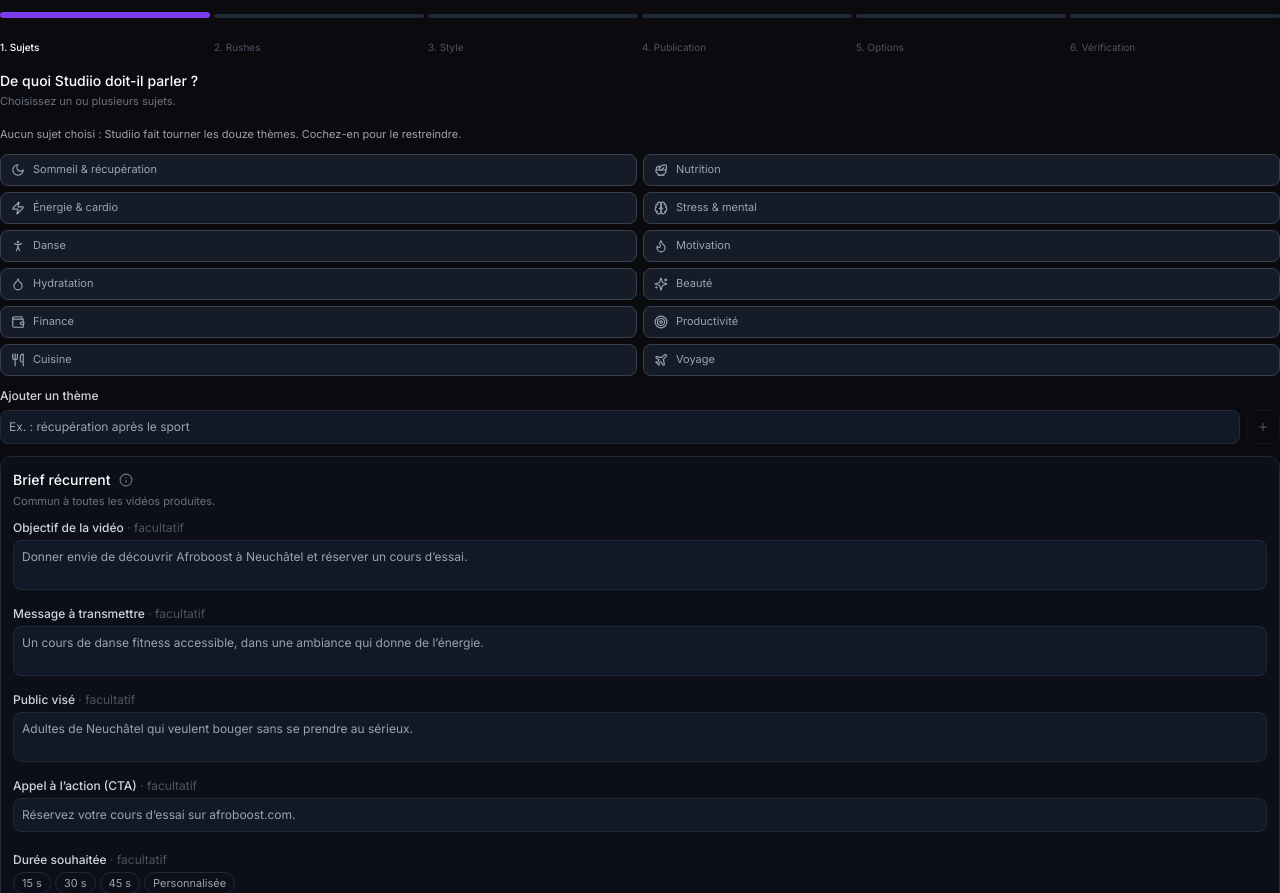
Test: L heure de publication › ⚠️ quand la colonne manque, l écran le dit au lieu d un champ sans effet
Expected: the text "De quoi Studiio doit-il parler ?" is shown, [0,72,198,89]
Click the button named "Publication" at [747, 16], box [642,14,852,18]
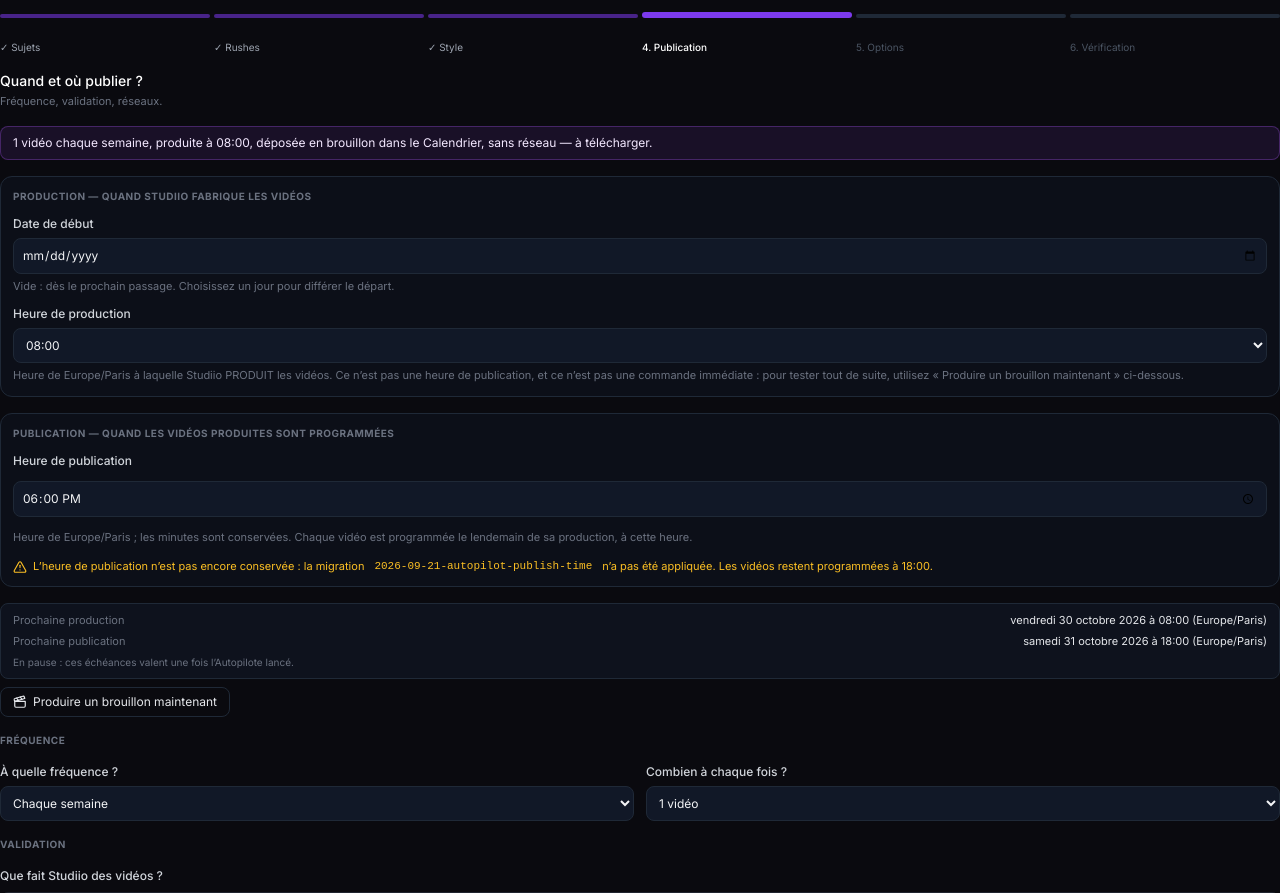
Expected: the time field labelled "Heure de publication" is shown, [13,480,1267,517]
Expected: the text "2026-09-21-autopilot-publish-time" is shown, [374,560,592,572]
